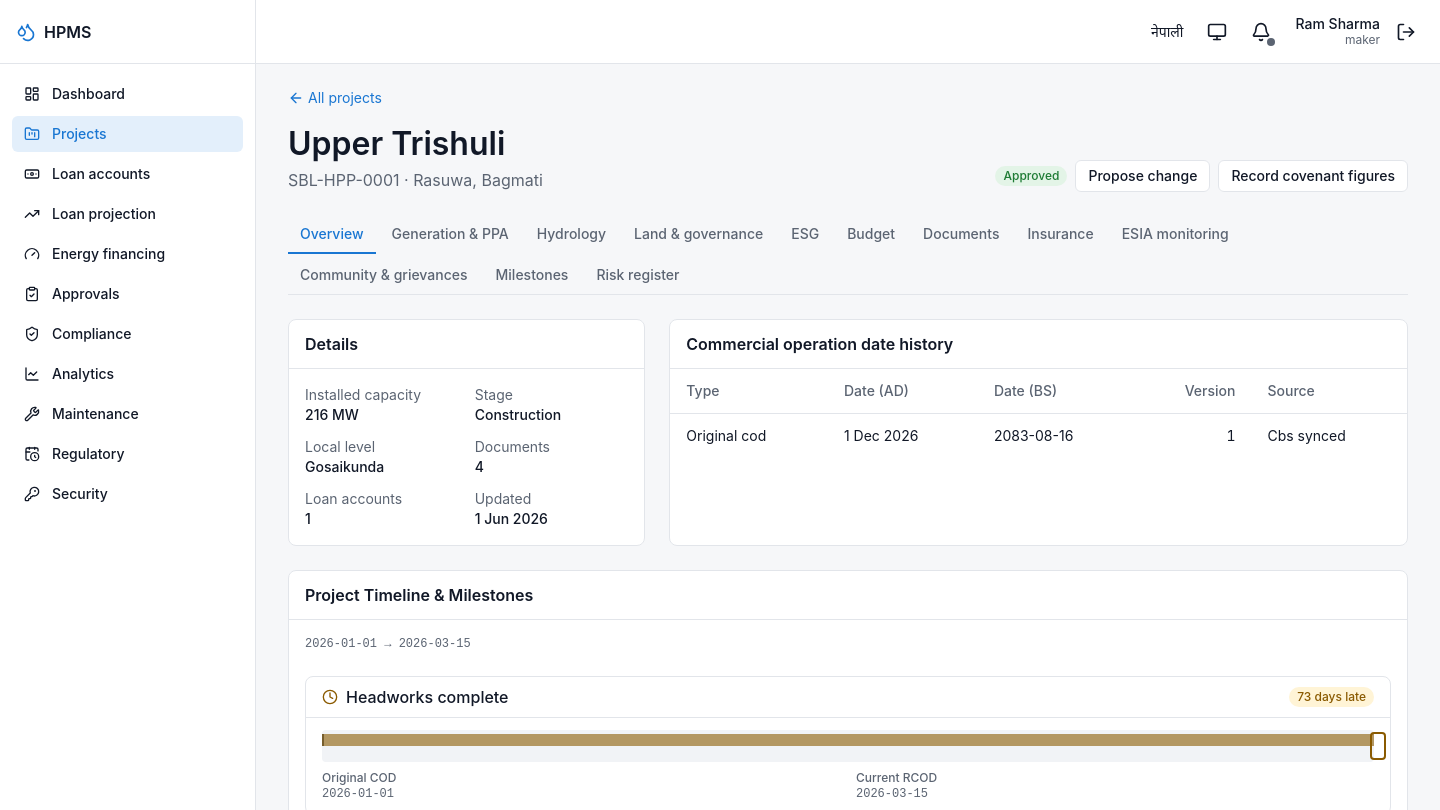
proposing a change from a project › shows the server refusal and keeps the form
Click the button "Propose change" at (1143, 176), box [1075, 160, 1210, 192]
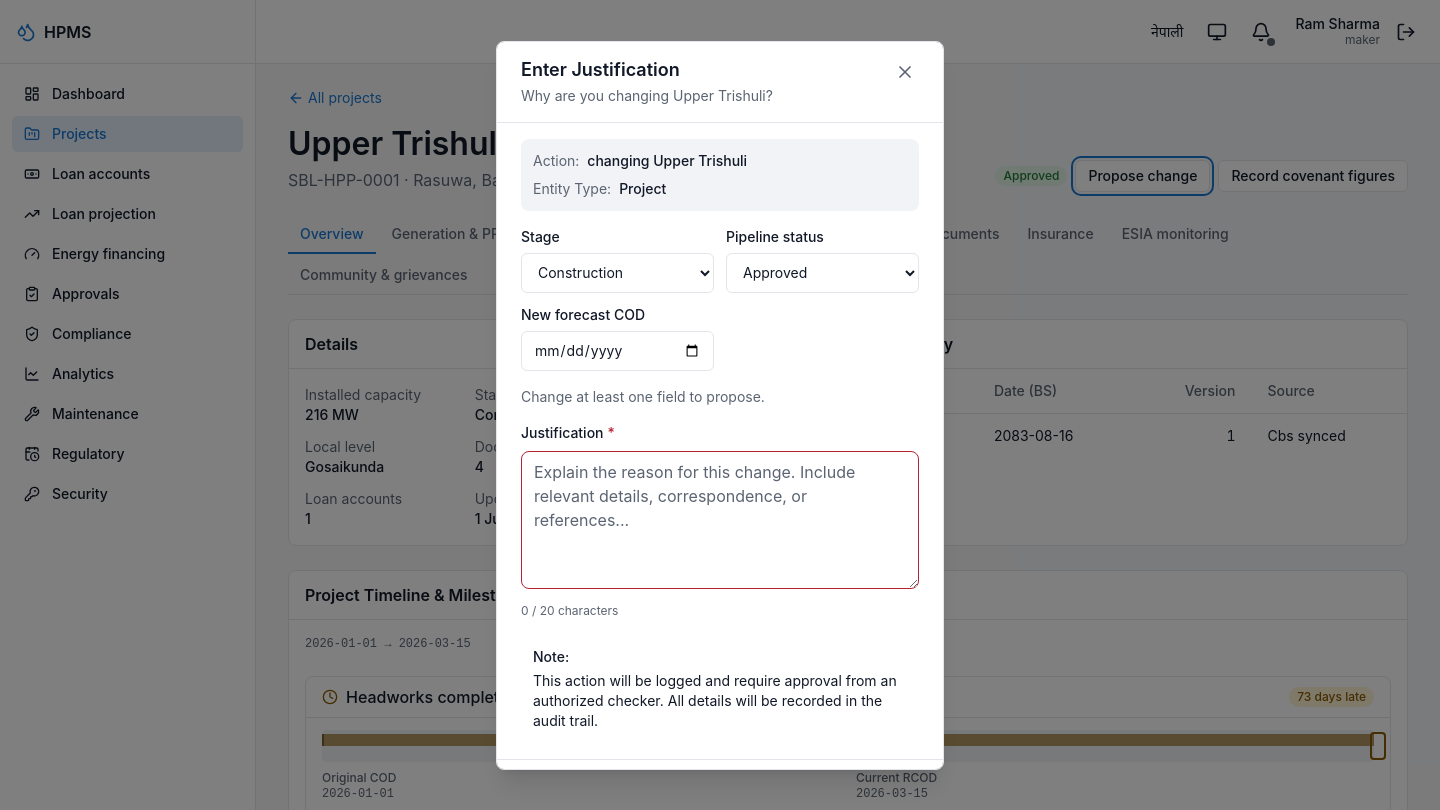
Type "Plant commissioned on schedule" into the text box labelled "Justification*" at (720, 520), box [521, 450, 919, 588]
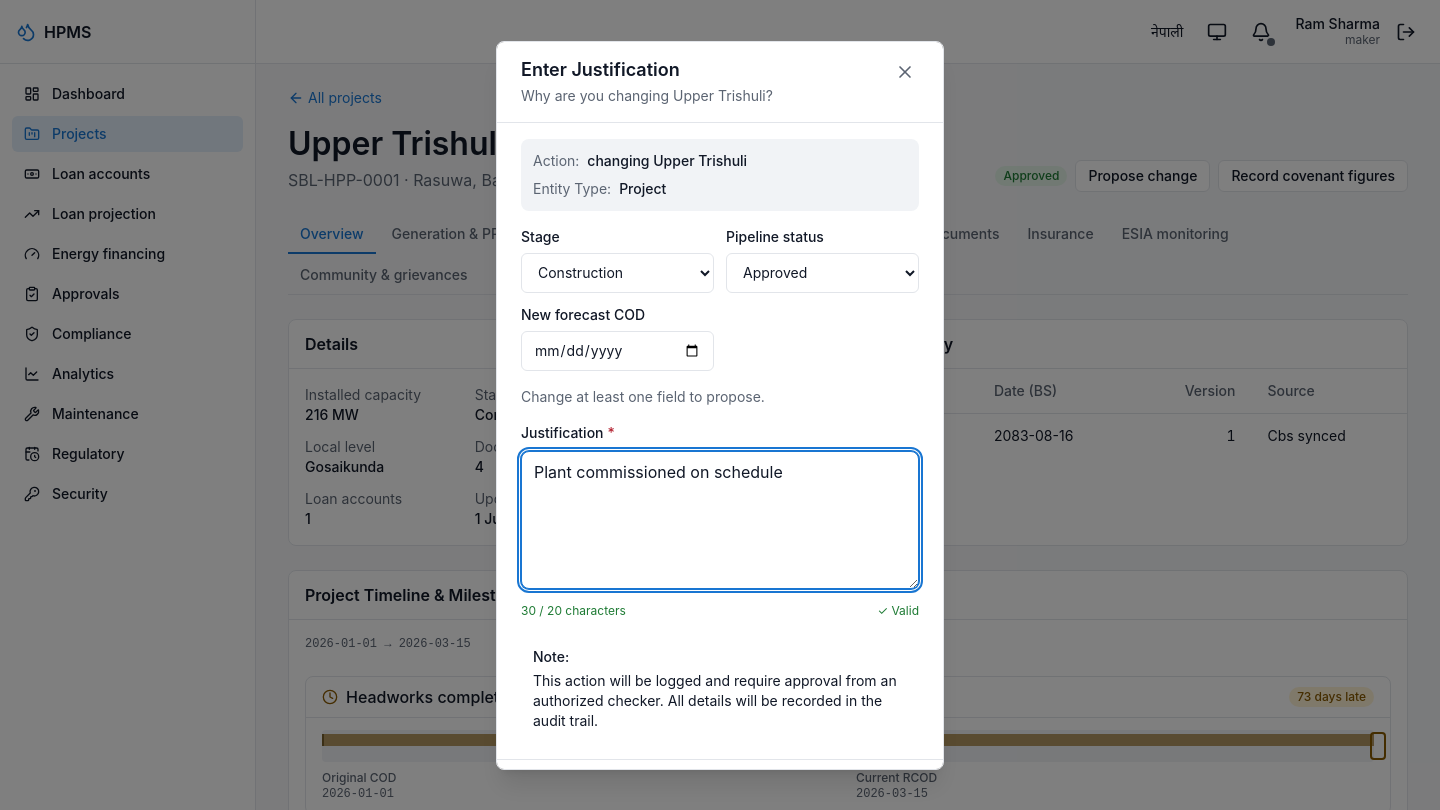
Select "Operation" in the dropdown labelled "Stage" at (618, 272), box [521, 252, 714, 292]
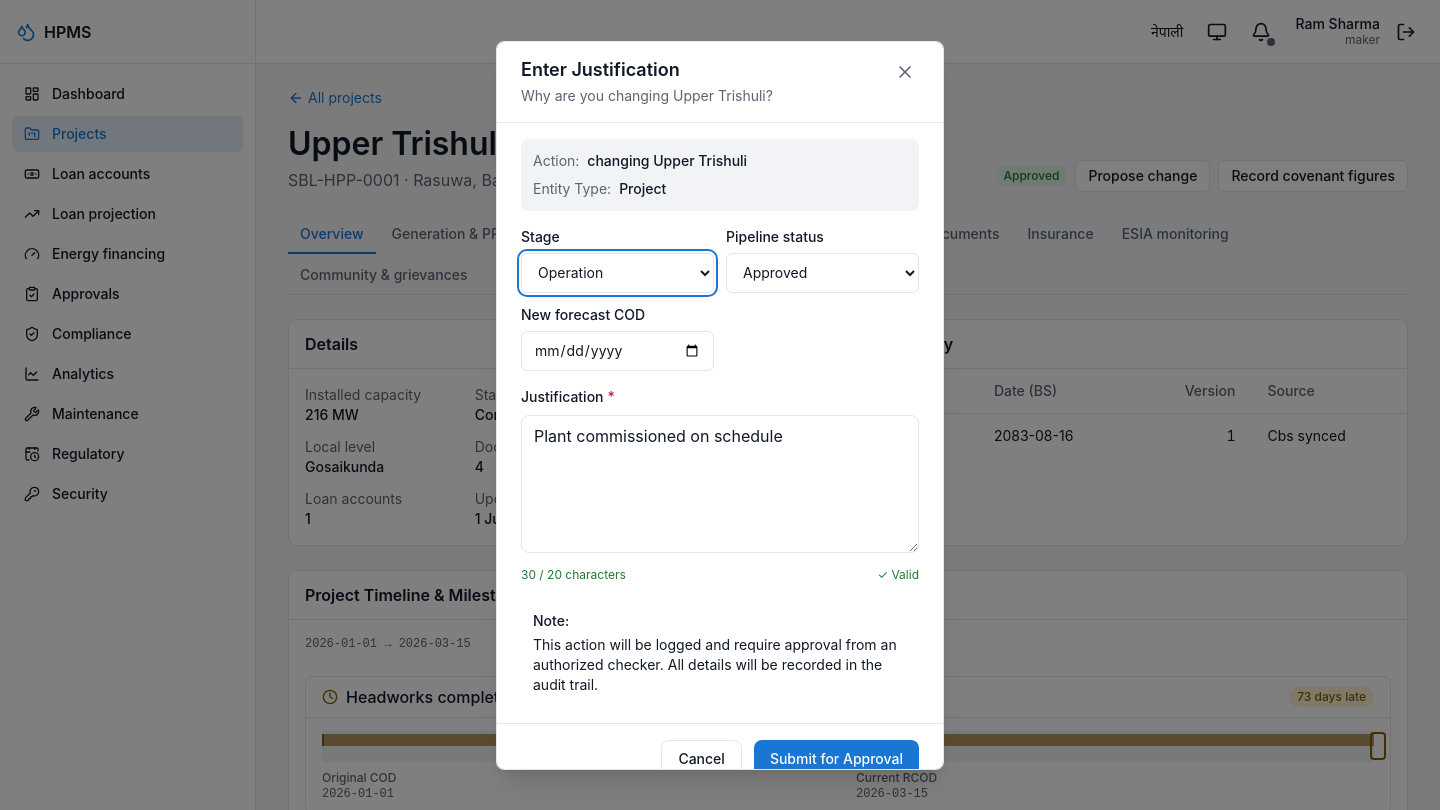
Click the button "Submit for Approval" at (836, 758), box [754, 740, 919, 778]
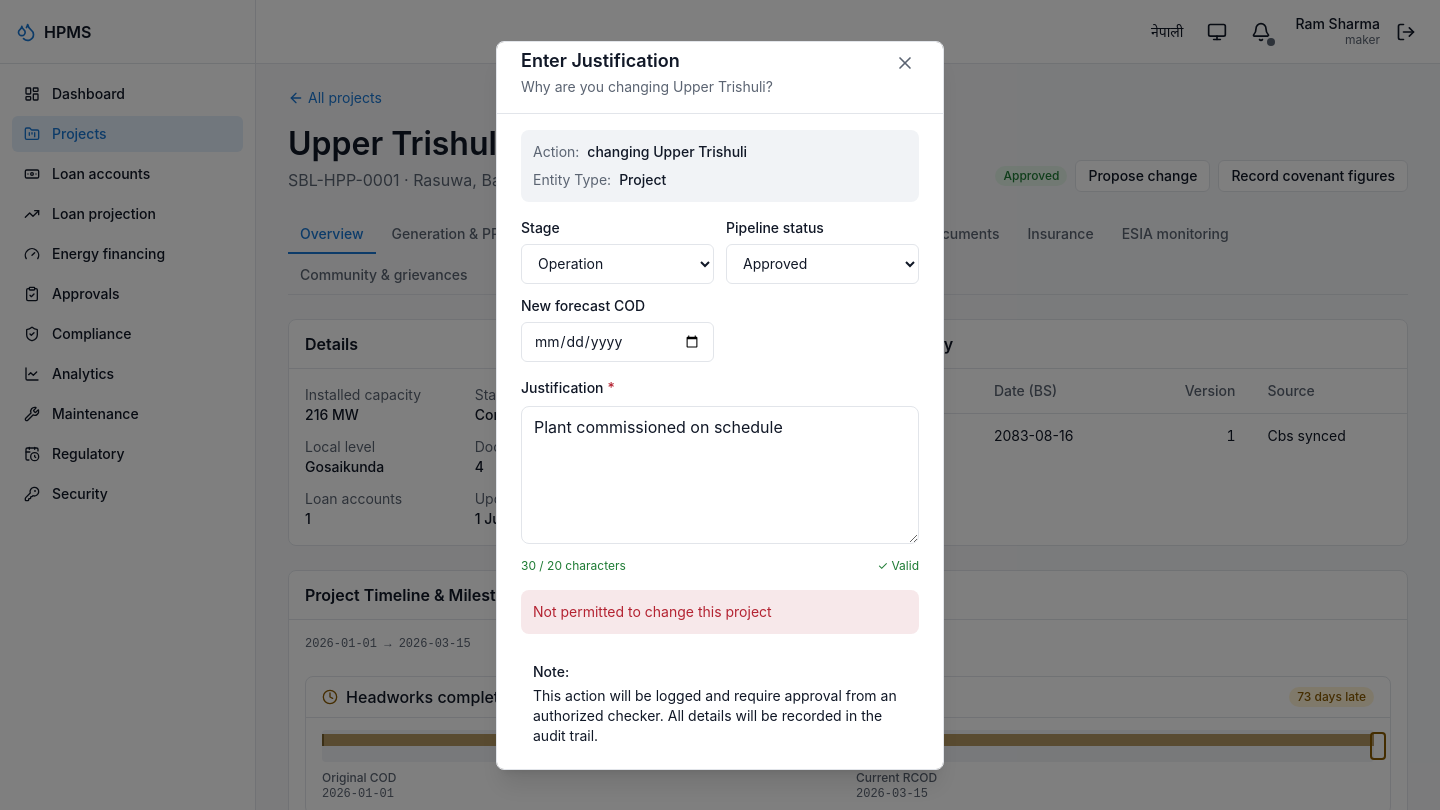
Expected: the text "Not permitted to change this project" is shown, [521, 590, 919, 634]
